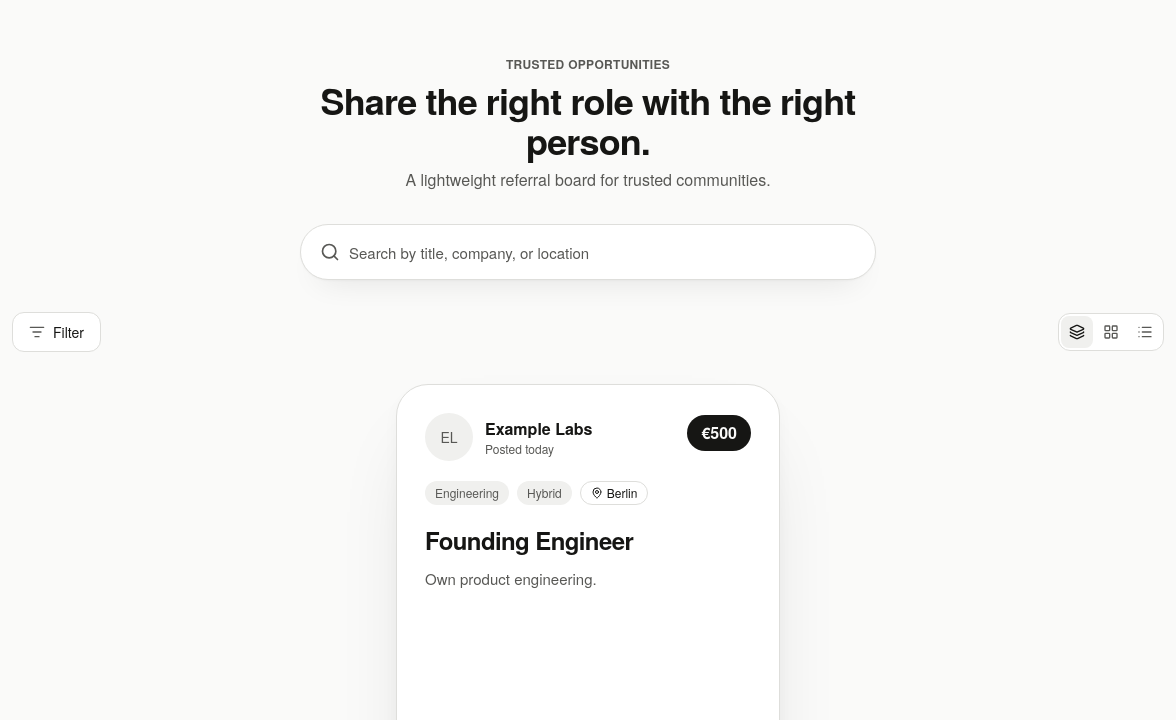
Test case: JobsPage › narrows the visible jobs by search text
Expected: the heading "Founding Engineer" is shown, left=425, top=523, right=633, bottom=557
In the search field named "search jobs": (588, 252) left=300, top=224, right=876, bottom=280, type "nonexistent role"
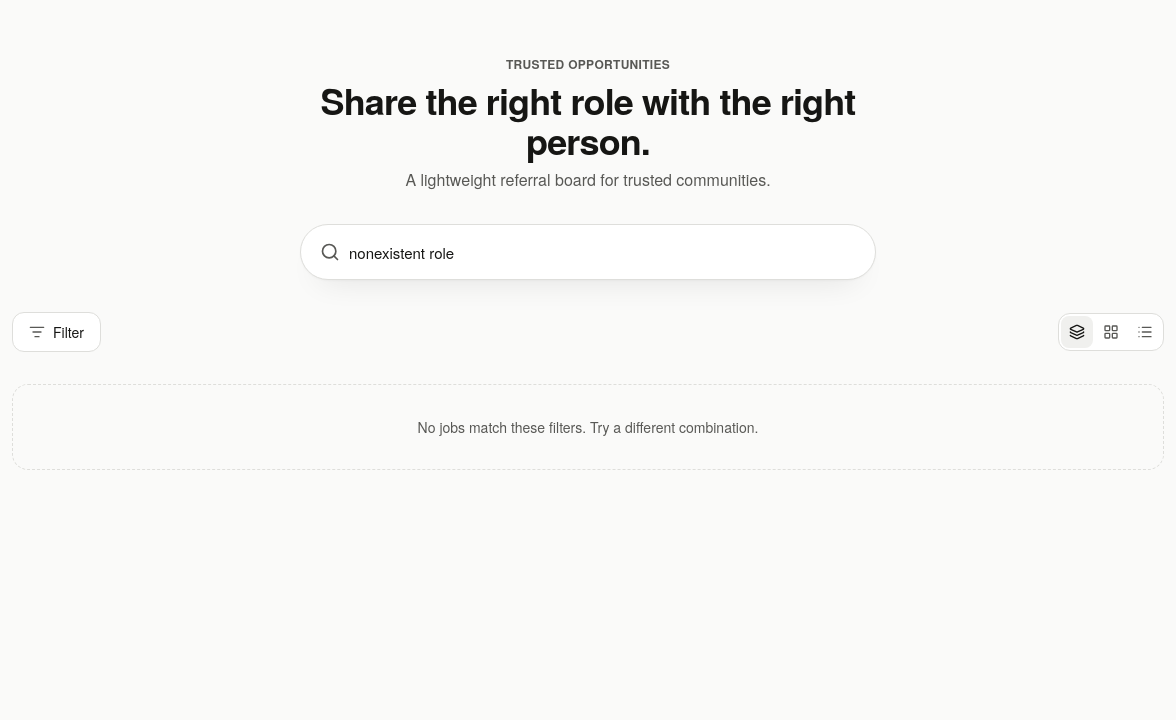
Now the text "No jobs match these filters. Try a different combination." is shown, box left=12, top=384, right=1164, bottom=470
